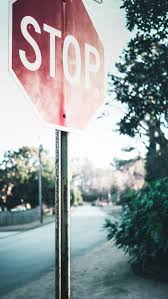stop: (1, 1, 112, 141)
